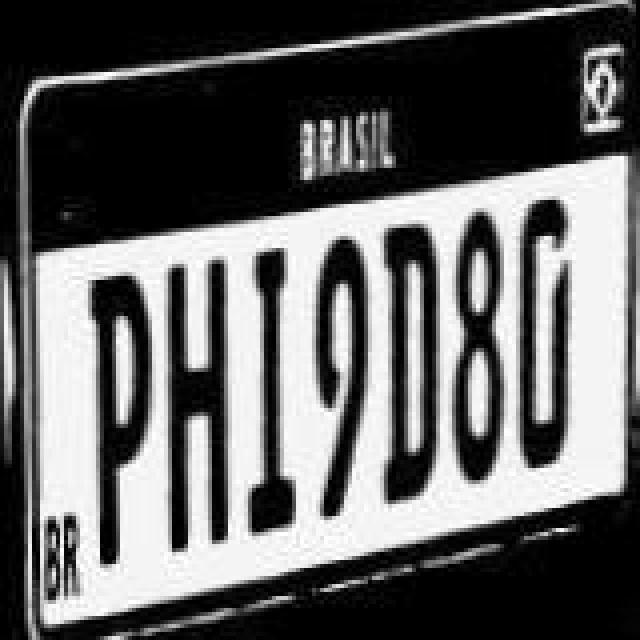8: (440, 192, 516, 476)
9: (298, 224, 378, 512)
D: (368, 204, 444, 496), (508, 178, 584, 454)
H: (162, 242, 238, 538)
I: (232, 236, 312, 524)
P: (88, 260, 160, 556)
